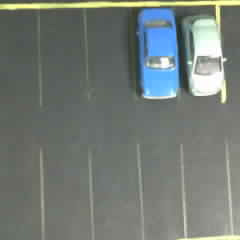Car: (127, 2, 182, 112), (184, 2, 230, 113)
